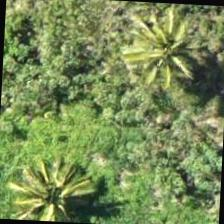Kelapa_Sawit: (120, 12, 216, 108), (5, 150, 99, 224)
